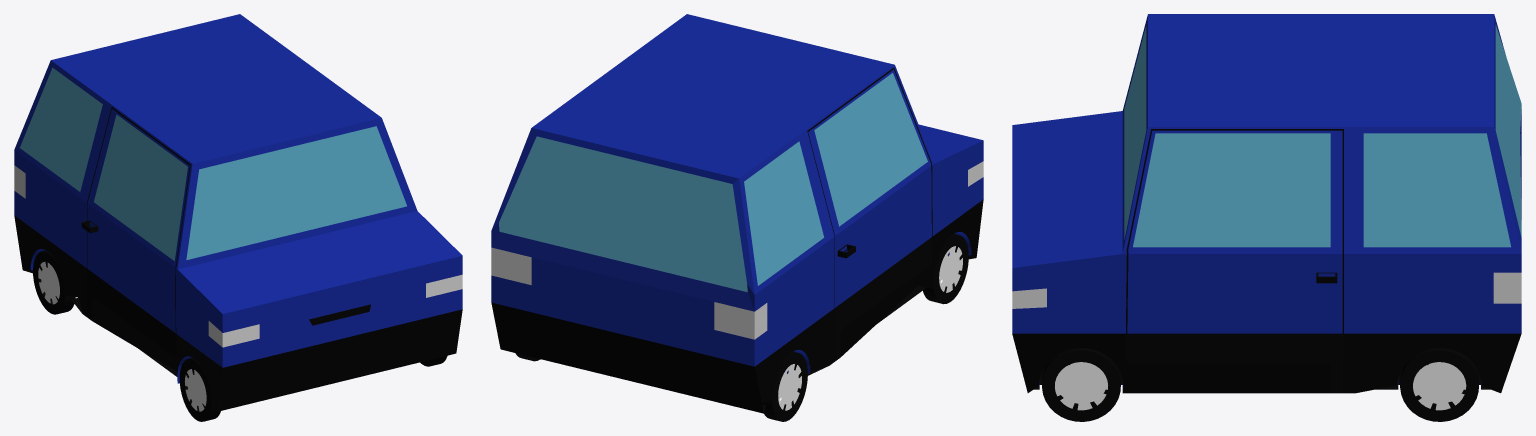
Rendered from NPCcar3_blue.fbx.
3 views of the same model, side by side, from view 1: azimuth 30°, elevation 25°; view 2: azimuth 150°, elevation 25°; view 3: azimuth 270°, elevation 25° (orthographic). The views are drawn at different scales.
Visible parts, largest first — view 1: car03_blue; view 2: car03_blue; view 3: car03_blue.
Part boxes in pixels (<box>): car03_blue: <box>14,14,462,421</box>; car03_blue: <box>491,14,983,421</box>; car03_blue: <box>1012,14,1521,421</box>.
Size of the model in its own units: 51.11 by 43.83 by 72.08.
